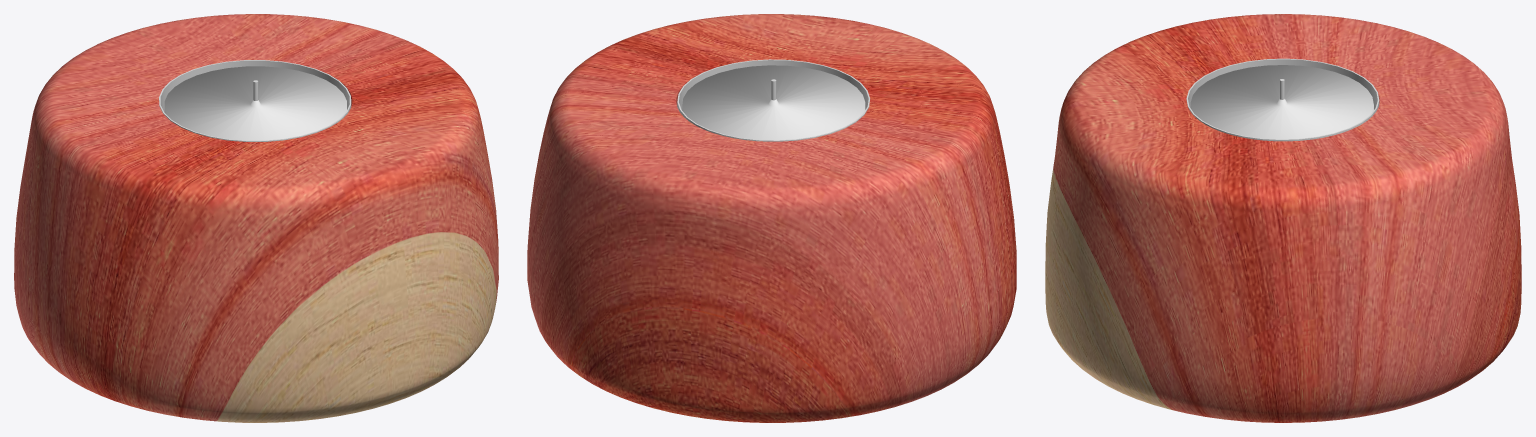
Rendered from tea_light.fbx.
3 views of the same model, side by side, from view 1: azimuth 30°, elevation 25°; view 2: azimuth 150°, elevation 25°; view 3: azimuth 270°, elevation 25° (orthographic).
Parts seen in each view (by area): view 1: Wooden_tealight_candle_holder:Tambootie_candle_holder, Wooden_tealight_candle_holder:Cylinder10; view 2: Wooden_tealight_candle_holder:Tambootie_candle_holder, Wooden_tealight_candle_holder:Cylinder10; view 3: Wooden_tealight_candle_holder:Tambootie_candle_holder, Wooden_tealight_candle_holder:Cylinder10.
Part boxes in pixels (<box>): Wooden_tealight_candle_holder:Tambootie_candle_holder: <box>14,14,498,422</box>; Wooden_tealight_candle_holder:Cylinder10: <box>159,60,351,141</box>; Wooden_tealight_candle_holder:Tambootie_candle_holder: <box>527,14,1016,422</box>; Wooden_tealight_candle_holder:Cylinder10: <box>677,59,870,141</box>; Wooden_tealight_candle_holder:Tambootie_candle_holder: <box>1045,14,1521,422</box>; Wooden_tealight_candle_holder:Cylinder10: <box>1186,58,1379,141</box>.
Bounding box in the file's own units: 102 × 57.67 × 98.77.
Materials: 2 (1 with a texture image).
